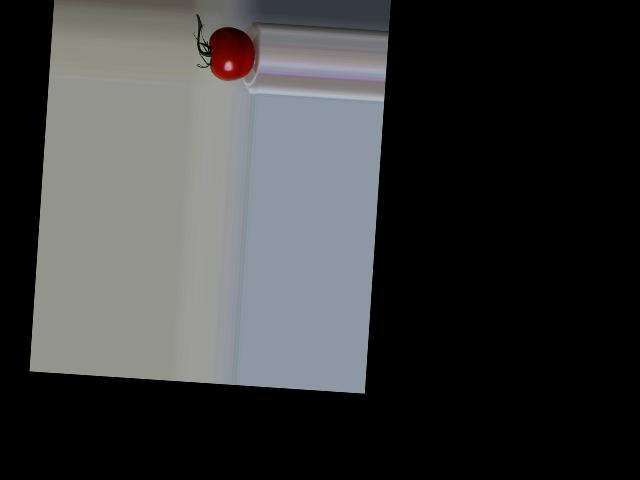tomato: (207, 25, 256, 82)
